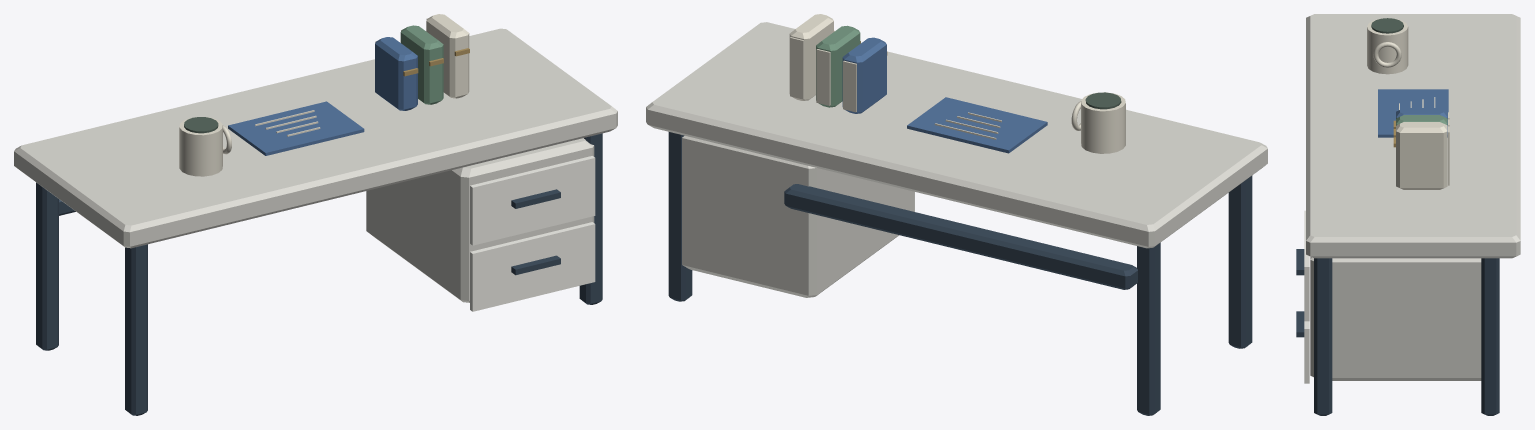
File: v18_interior_writing_desk.glb
3 renders of one model, left to right at view 1: azimuth 30°, elevation 25°; view 2: azimuth 150°, elevation 25°; view 3: azimuth 270°, elevation 25°, orthographic. The views are drawn at different scales.
Parts seen in each view (by area): view 1: _MeshInstance3D_4691, _MeshInstance3D_4692, _MeshInstance3D_4693, _MeshInstance3D_4695, _MeshInstance3D_4710, _MeshInstance3D_4688, _MeshInstance3D_4687, _MeshInstance3D_4698, _MeshInstance3D_4704, _MeshInstance3D_4701, _MeshInstance3D_4707, _MeshInstance3D_4690; view 2: _MeshInstance3D_4691, _MeshInstance3D_4692, _MeshInstance3D_4697, _MeshInstance3D_4710, _MeshInstance3D_4688, _MeshInstance3D_4687, _MeshInstance3D_4689, _MeshInstance3D_4698, _MeshInstance3D_4707, _MeshInstance3D_4704, _MeshInstance3D_4701, _MeshInstance3D_4706 (+2 smaller); view 3: _MeshInstance3D_4691, _MeshInstance3D_4692, _MeshInstance3D_4704, _MeshInstance3D_4690, _MeshInstance3D_4689, _MeshInstance3D_4710, _MeshInstance3D_4707, _MeshInstance3D_4695, _MeshInstance3D_4708, _MeshInstance3D_4709, _MeshInstance3D_4693, _MeshInstance3D_4698 (+3 smaller).
Boxes of the visible parts, box(x1,y1,x2,y2) form: _MeshInstance3D_4691: box(14, 28, 617, 248); _MeshInstance3D_4692: box(366, 138, 594, 302); _MeshInstance3D_4693: box(470, 222, 595, 311); _MeshInstance3D_4695: box(470, 156, 595, 245); _MeshInstance3D_4710: box(228, 101, 364, 155); _MeshInstance3D_4688: box(125, 244, 147, 415); _MeshInstance3D_4687: box(36, 182, 58, 350); _MeshInstance3D_4698: box(375, 37, 417, 110); _MeshInstance3D_4704: box(426, 14, 469, 98); _MeshInstance3D_4701: box(400, 25, 443, 104); _MeshInstance3D_4707: box(179, 117, 222, 176); _MeshInstance3D_4690: box(579, 133, 602, 304); _MeshInstance3D_4691: box(646, 22, 1267, 248); _MeshInstance3D_4692: box(682, 136, 914, 297); _MeshInstance3D_4697: box(784, 184, 1137, 289); _MeshInstance3D_4710: box(907, 97, 1047, 153); _MeshInstance3D_4688: box(1228, 175, 1252, 348); _MeshInstance3D_4687: box(1137, 242, 1160, 415); _MeshInstance3D_4689: box(668, 132, 692, 301); _MeshInstance3D_4698: box(842, 37, 886, 113); _MeshInstance3D_4707: box(1081, 92, 1125, 153); _MeshInstance3D_4704: box(789, 14, 833, 100); _MeshInstance3D_4701: box(816, 25, 860, 107); _MeshInstance3D_4706: box(790, 37, 804, 99); _MeshInstance3D_4691: box(1306, 14, 1520, 258); _MeshInstance3D_4692: box(1310, 257, 1481, 380); _MeshInstance3D_4704: box(1396, 122, 1447, 189); _MeshInstance3D_4690: box(1314, 258, 1332, 415); _MeshInstance3D_4689: box(1481, 258, 1499, 415); _MeshInstance3D_4710: box(1378, 89, 1448, 137); _MeshInstance3D_4707: box(1367, 18, 1408, 74); _MeshInstance3D_4695: box(1304, 210, 1309, 321); _MeshInstance3D_4708: box(1371, 18, 1403, 33); _MeshInstance3D_4709: box(1373, 42, 1401, 67); _MeshInstance3D_4693: box(1304, 321, 1309, 383); _MeshInstance3D_4698: box(1396, 108, 1447, 118).
Size of the model in its own units: 2.56 by 1.3 by 1.07.
